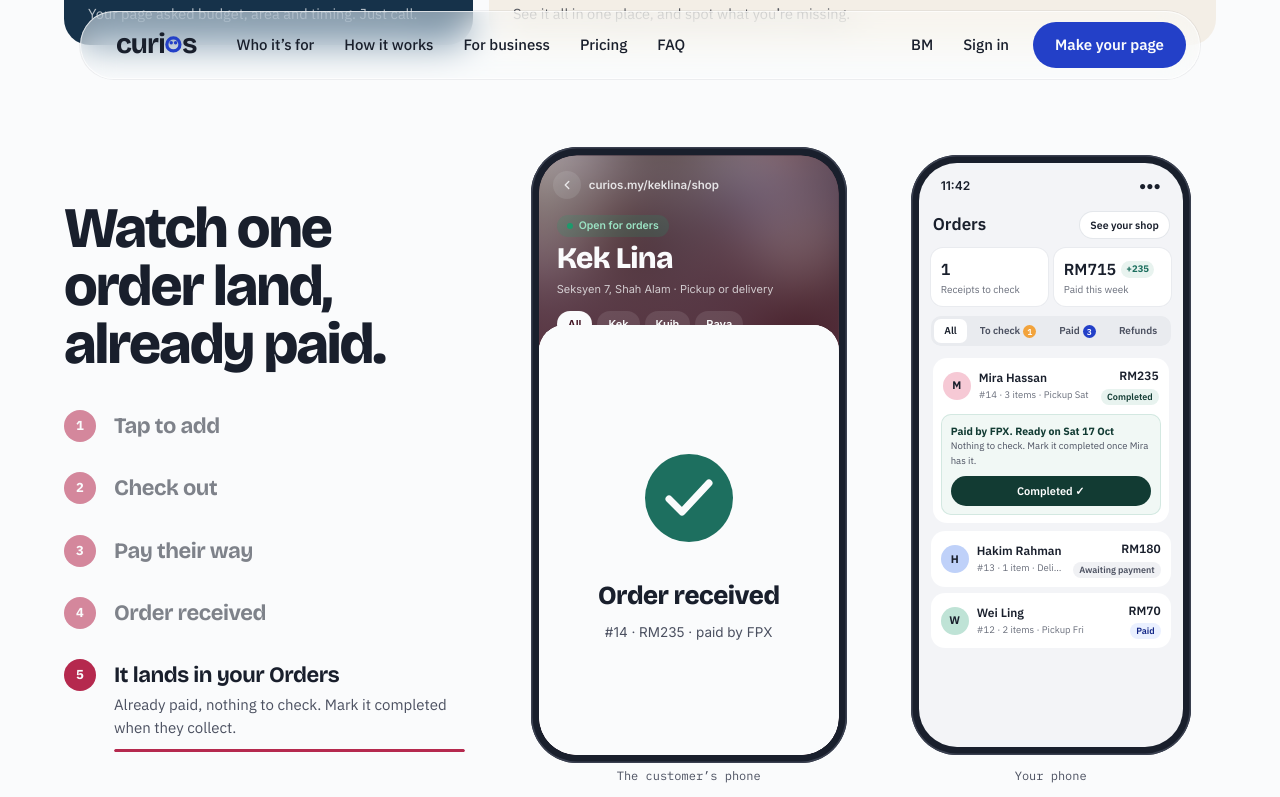
the order, from the link in bio › draws the link in bio as the board does, the Shop link first
(page scrolled)
Click the button "1 Tap to add" at (80, 426), box [64,410,466,456]
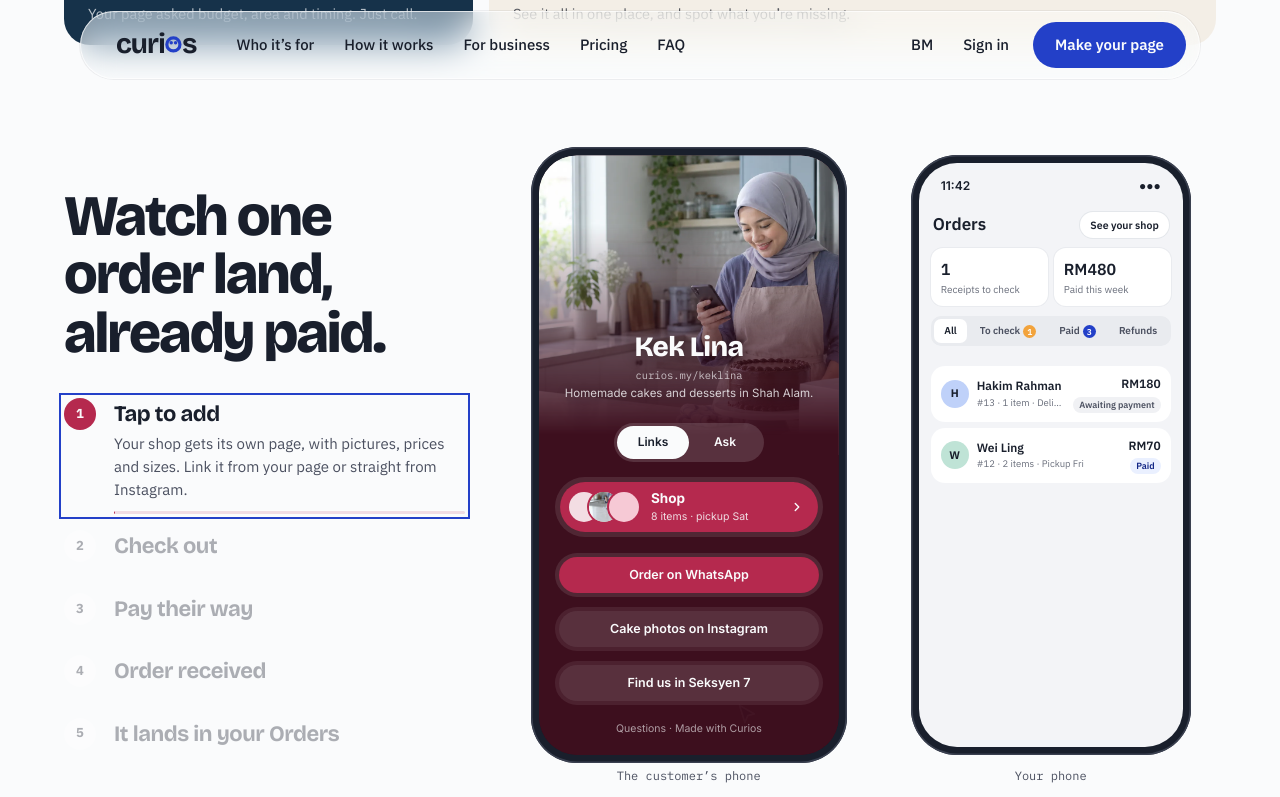
Now the element that starts with "Kek Lina" is shown, box [539,156,839,756]
Now the element that starts with "Kek Lina" shows "curios.my/keklina", box [635,368,742,382]
Now the element that starts with "Kek Lina" shows "Homemade cakes and desserts in Shah Alam.", box [564,386,813,400]
